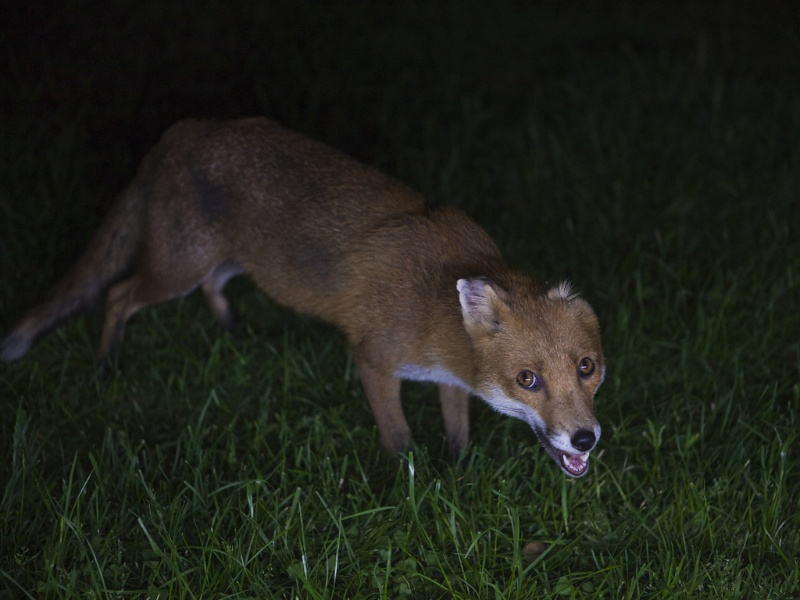fox: (1, 110, 620, 506)
